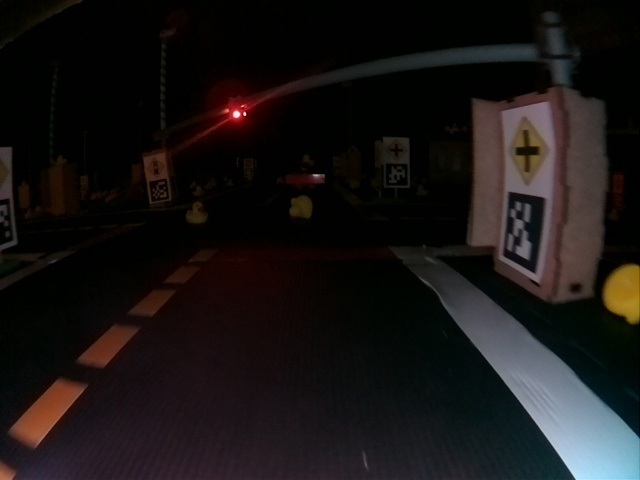Duckie: (603, 266, 638, 322), (290, 196, 313, 218), (187, 201, 208, 222)
Intersection sign: (506, 115, 550, 186), (385, 139, 408, 161)
QR code: (502, 190, 544, 272), (385, 162, 409, 186), (148, 179, 170, 202)
Signal sign: (146, 157, 166, 177)
